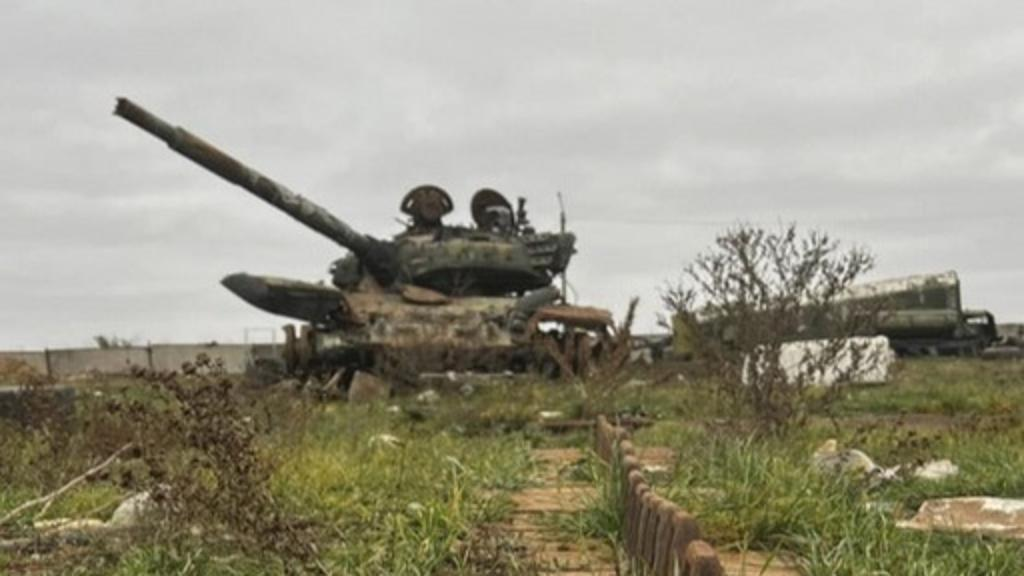TANK: (90, 76, 622, 392)
TRUCK: (870, 302, 1002, 360)
